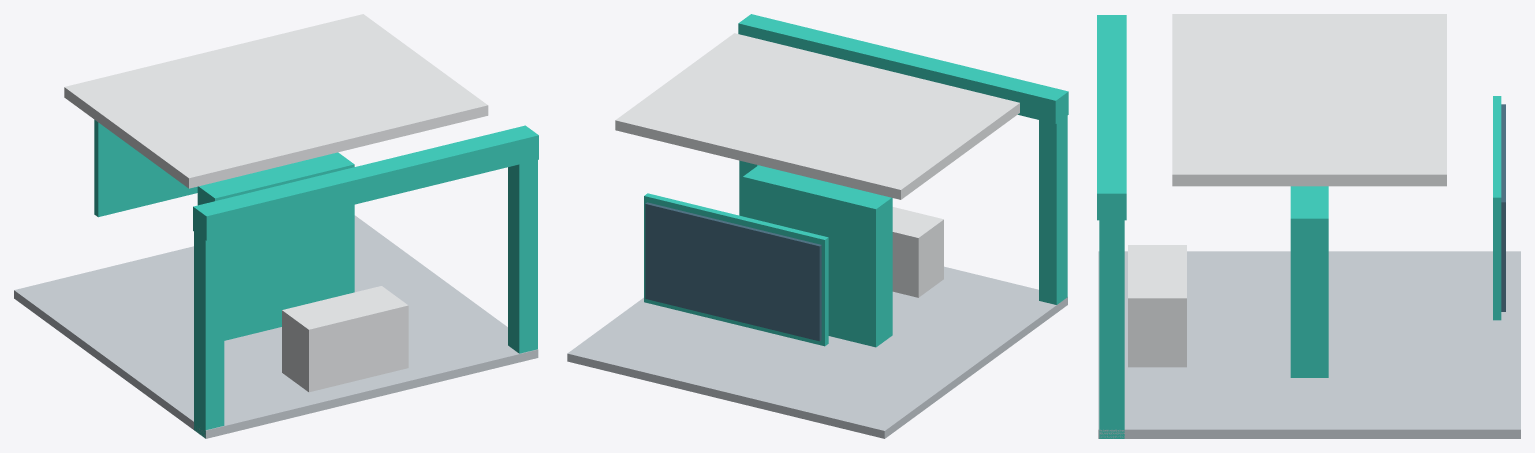
3 views of the same model, side by side, from view 1: azimuth 30°, elevation 25°; view 2: azimuth 150°, elevation 25°; view 3: azimuth 270°, elevation 25° (orthographic). The views are drawn at different scales.
Parts seen in each view (by area): view 1: Exhibition Booth Concept; view 2: Exhibition Booth Concept; view 3: Exhibition Booth Concept.
Boxes of the visible parts, box(x1,y1,x2,y2) form: Exhibition Booth Concept: box(14, 14, 538, 438); Exhibition Booth Concept: box(567, 14, 1068, 438); Exhibition Booth Concept: box(1097, 14, 1520, 438).
Bounding box in the file's own units: 5 × 3.34 × 5.02.
